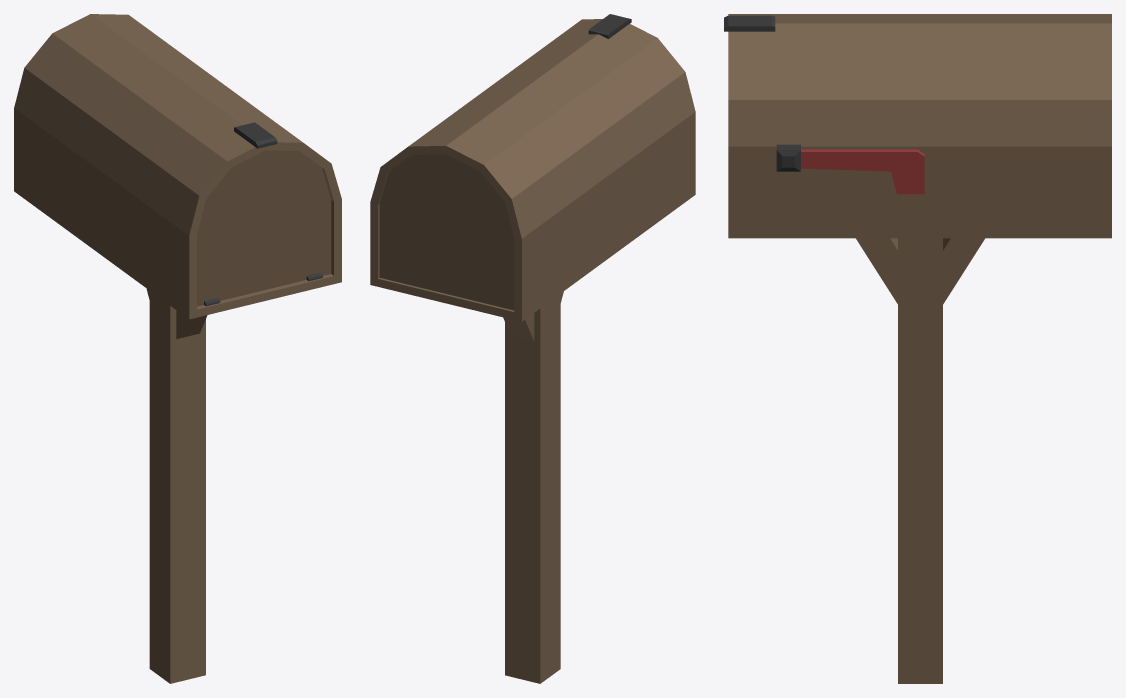
Rendered from SM_Props_Farm_PostBox_02.fbx.
3 renders of one model, left to right at view 1: azimuth 30°, elevation 25°; view 2: azimuth 150°, elevation 25°; view 3: azimuth 270°, elevation 25°, orthographic. The views are drawn at different scales.
Visible parts, largest first — view 1: SM_Props_Farm_PostBox_02; view 2: SM_Props_Farm_PostBox_02; view 3: SM_Props_Farm_PostBox_02.
Boxes of the visible parts, x1=… form: SM_Props_Farm_PostBox_02: x1=14, y1=14, x2=341, y2=683; SM_Props_Farm_PostBox_02: x1=370, y1=14, x2=695, y2=683; SM_Props_Farm_PostBox_02: x1=724, y1=14, x2=1111, y2=683.
Bounding box in the file's own units: 31.96 × 111 × 59.69.
